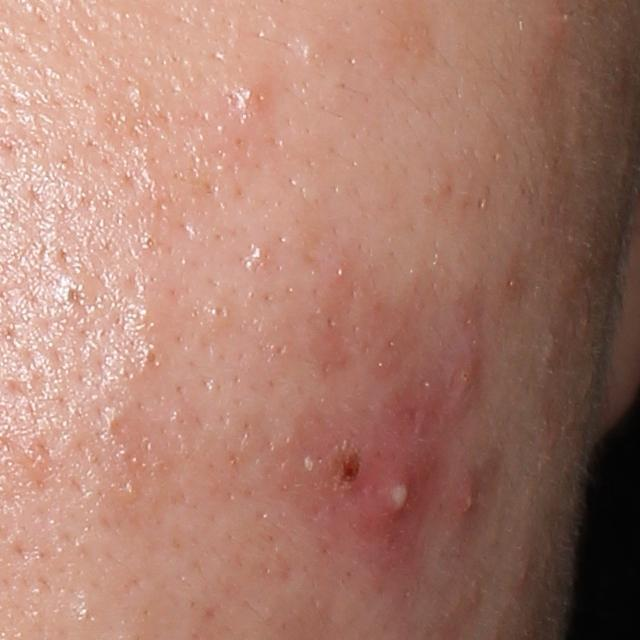comedo: (213, 71, 272, 127), (203, 296, 237, 334)
